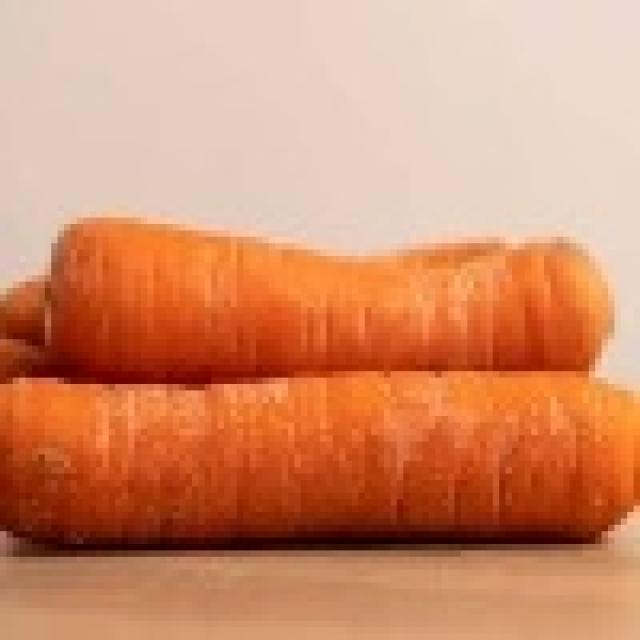Stale_Carrot: (0, 371, 640, 546), (45, 219, 611, 381)
